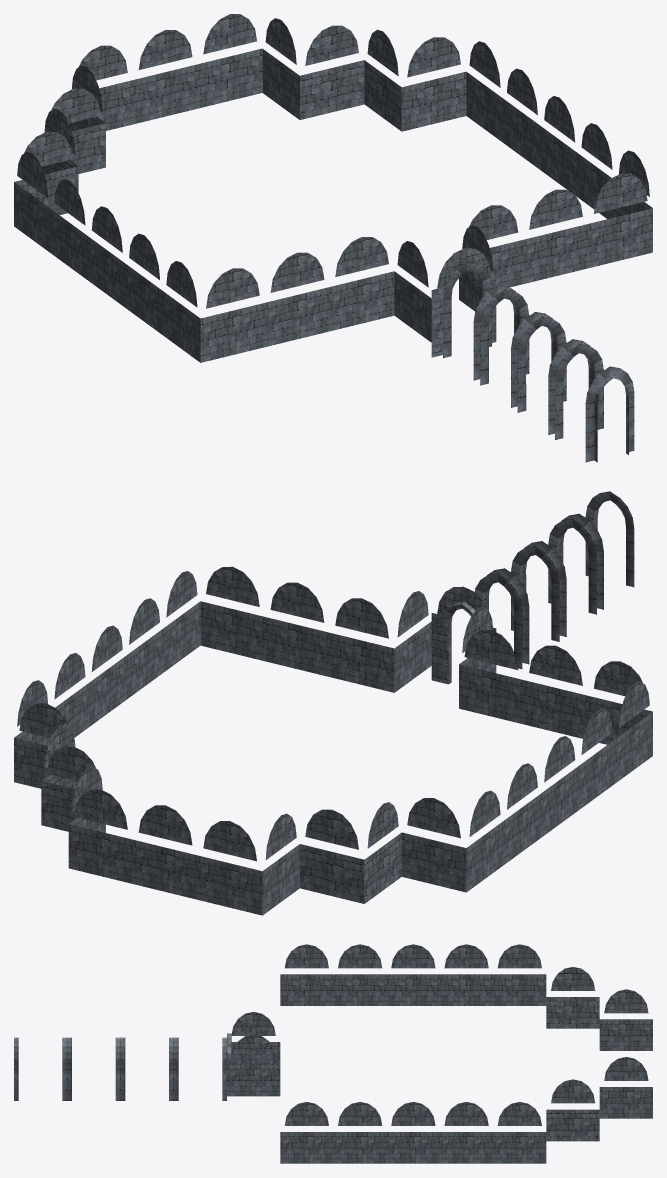
Rendered from DungeonWall_MDL.fbx.
3 views of the same model, one above another, from view 1: azimuth 30°, elevation 25°; view 2: azimuth 150°, elevation 25°; view 3: azimuth 270°, elevation 25° (orthographic). The views are drawn at different scales.
Parts seen in each view (by area): view 1: TunnelBigDoorway.013; view 2: TunnelBigDoorway.013; view 3: TunnelBigDoorway.013.
Boxes of the visible parts, x1,y1,x2,y2 form: TunnelBigDoorway.013: (14,14,652,462); TunnelBigDoorway.013: (14,491,652,915); TunnelBigDoorway.013: (14,944,652,1163).
Size of the model in its own units: 3500 by 750 by 6000.
